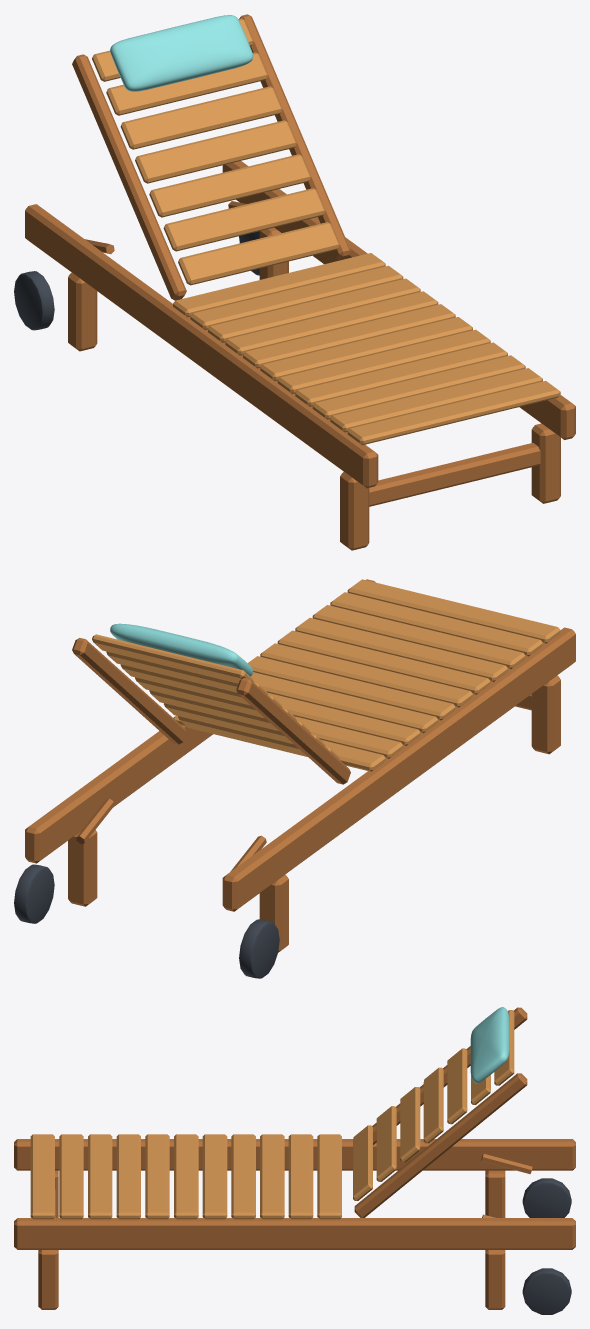
Rendered from espreguicadeira_madeira.glb.
3 renders of one model, top to bottom at view 1: azimuth 30°, elevation 25°; view 2: azimuth 150°, elevation 25°; view 3: azimuth 270°, elevation 25°, orthographic. The views are drawn at different scales.
Visible parts, largest first — view 1: espreguicadeira_madeira; view 2: espreguicadeira_madeira; view 3: espreguicadeira_madeira.
Boxes of the visible parts, <box> form: espreguicadeira_madeira: <box>14,14,575,550</box>; espreguicadeira_madeira: <box>14,579,575,978</box>; espreguicadeira_madeira: <box>14,1007,575,1314</box>.
Size of the model in its own units: 0.785 by 0.9195 by 1.95.
Materials: 1 (1 with a texture image).
